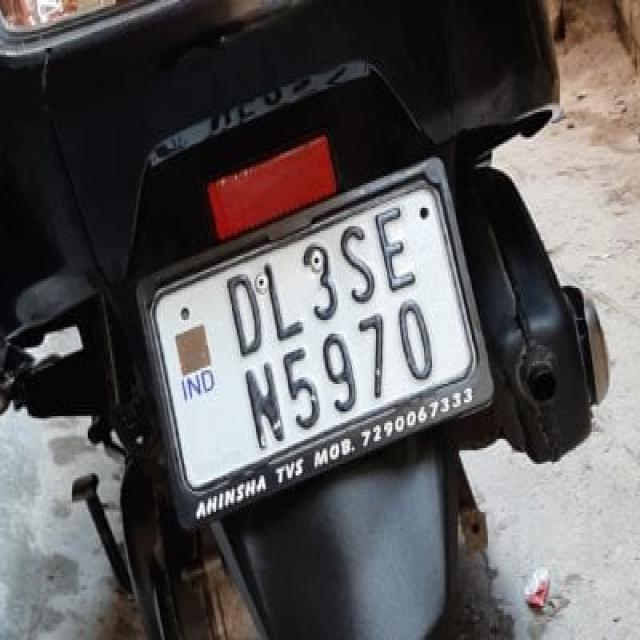license_plate: (134, 153, 494, 528)
